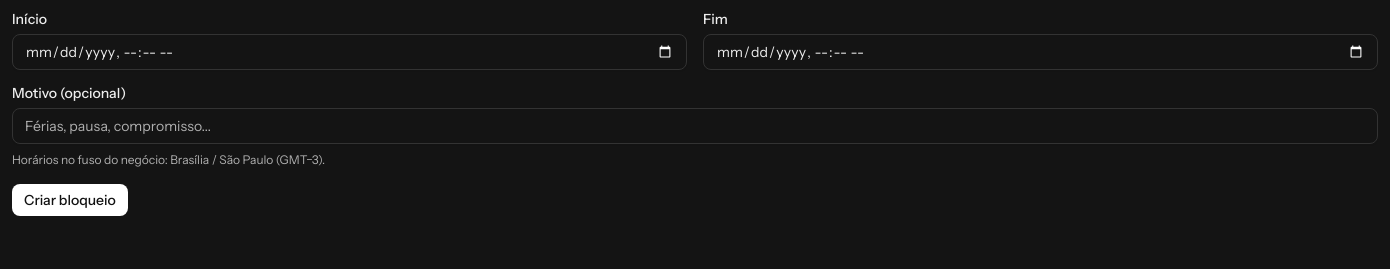
Test: criação de bloqueio › mantém início, fim e motivo depois de um conflito (#148)
The width and height of the screenshot is (1390, 269).
In the field labelled "Início": (350, 52) [12, 34, 687, 70], type "2026-10-22T09:00"
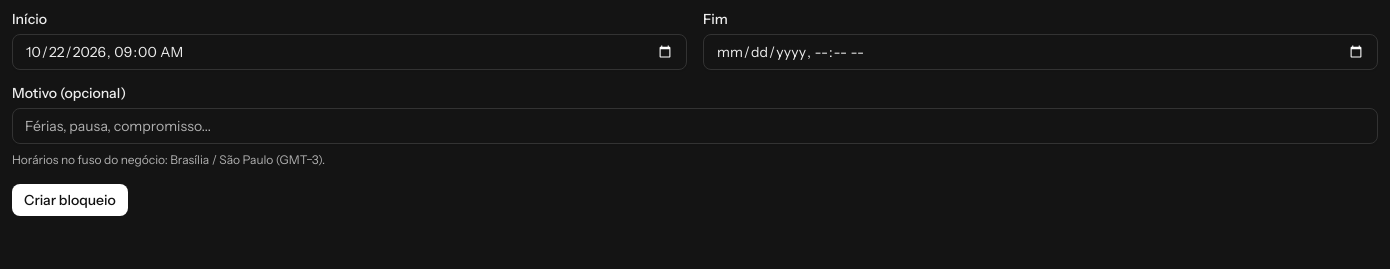
In the field labelled "Fim": (1040, 52) [703, 34, 1378, 70], type "2026-10-22T12:00"
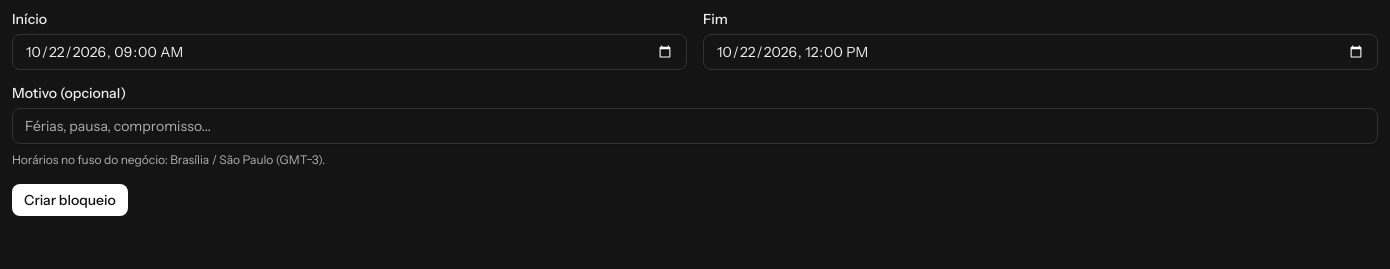
In the field labelled "Motivo (opcional)": (695, 126) [12, 108, 1378, 144], type "Dentista"
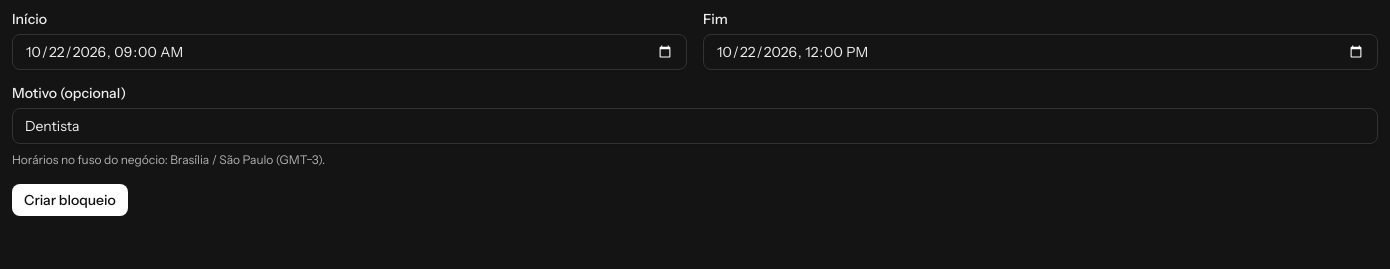
Click the button "Criar bloqueio": (70, 200) [12, 184, 128, 216]
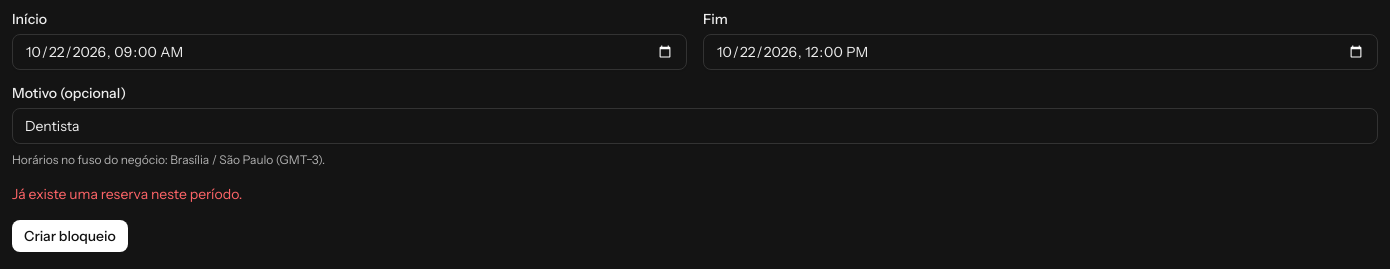
Result: the text "Já existe uma reserva neste período." is shown at [12, 185, 242, 203]
